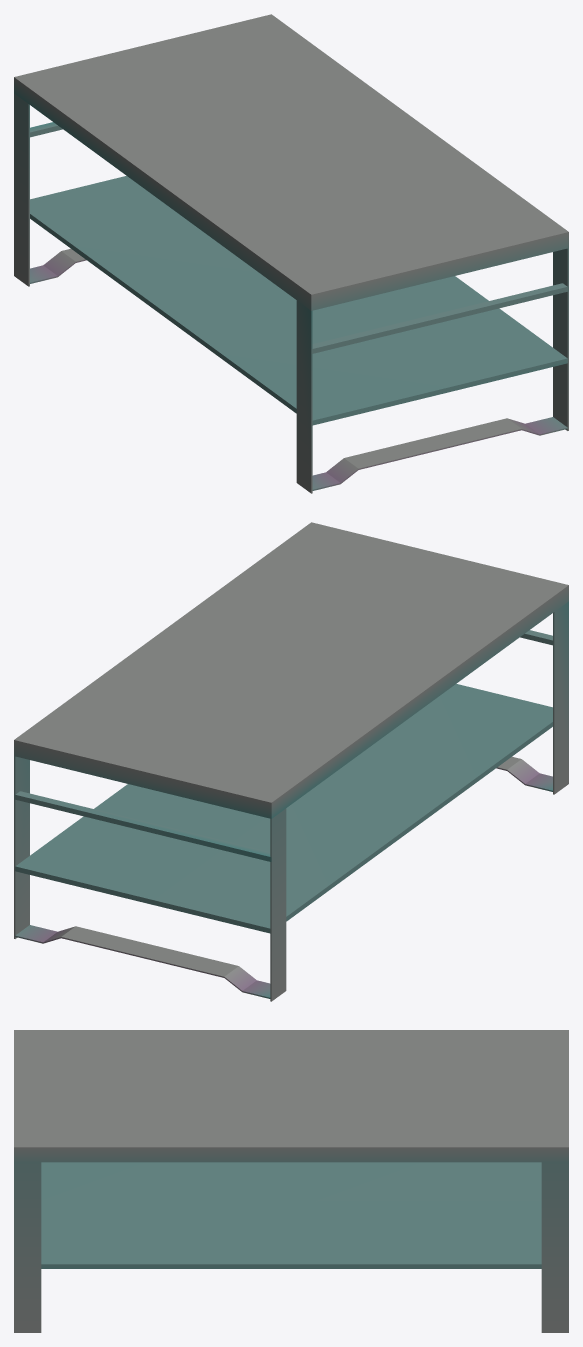
File: simready-furniture_table_coffee_low_a01.glb
The picture shows the model from 3 angles, top to bottom: view 1: azimuth 30°, elevation 25°; view 2: azimuth 150°, elevation 25°; view 3: azimuth 270°, elevation 25°; orthographic projection. The views are drawn at different scales.
Visible parts, largest first — view 1: top, shelf, bent_band.001, posts.003, posts.004, bars.001, posts.001, bent_band; view 2: top, shelf, bent_band, posts.004, posts.003, bars.002, posts.002, bent_band.001; view 3: top, shelf, posts.001, posts.002.
Part boxes in pixels (x1,y1,x2,y2): top: [14, 14, 568, 310]; shelf: [30, 176, 567, 425]; bent_band.001: [312, 417, 567, 490]; posts.003: [296, 300, 312, 493]; posts.004: [14, 93, 29, 286]; bars.001: [311, 283, 568, 353]; posts.001: [553, 248, 568, 430]; bent_band: [30, 248, 86, 283]; top: [14, 522, 568, 818]; shelf: [15, 684, 552, 933]; bent_band: [15, 925, 270, 998]; posts.004: [270, 808, 286, 1001]; posts.003: [553, 601, 568, 794]; bars.002: [14, 791, 271, 861]; posts.002: [14, 756, 29, 938]; bent_band.001: [496, 756, 552, 791]; top: [14, 1030, 568, 1162]; shelf: [41, 1162, 541, 1268]; posts.001: [14, 1162, 41, 1332]; posts.002: [541, 1162, 568, 1332].
Size of the model in its own units: 0.6001 by 0.4428 by 1.2.
